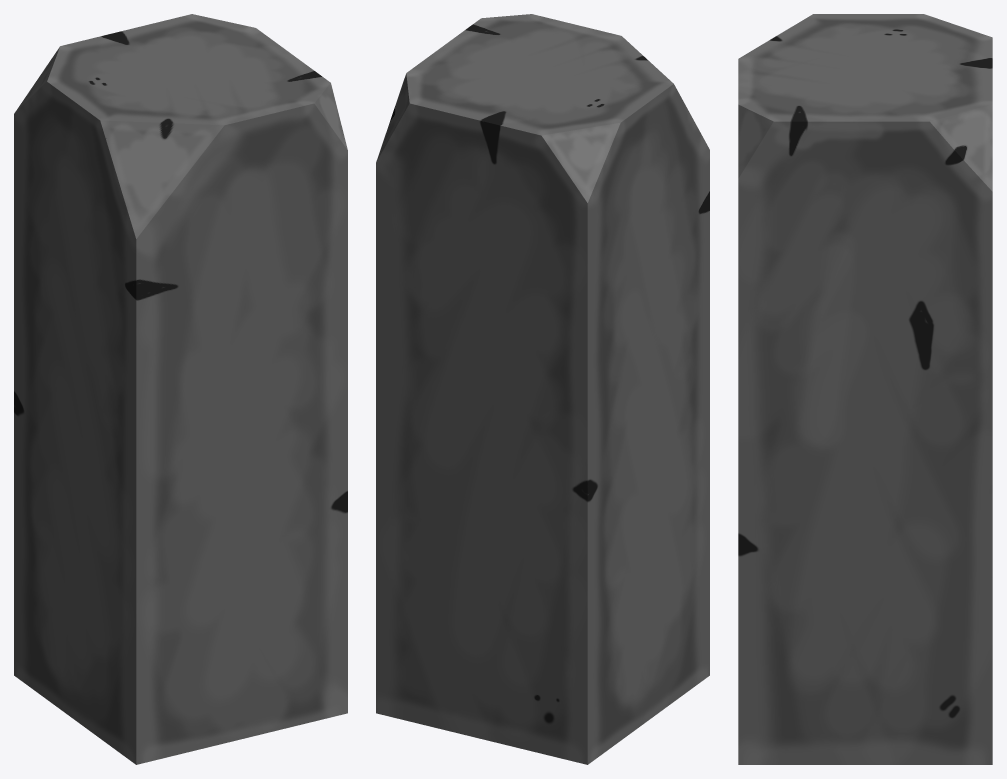
File: piedra1mesh.fbx
3 renders of one model, left to right at view 1: azimuth 30°, elevation 25°; view 2: azimuth 150°, elevation 25°; view 3: azimuth 270°, elevation 25°, orthographic. The views are drawn at different scales.
Visible parts, largest first — view 1: Piedra1; view 2: Piedra1; view 3: Piedra1.
Part boxes in pixels (x1,y1,x2,y2): Piedra1: (14,14,347,764); Piedra1: (376,14,709,764); Piedra1: (738,14,992,764).
Bounding box in the file's own units: 818 × 2281 × 818.
